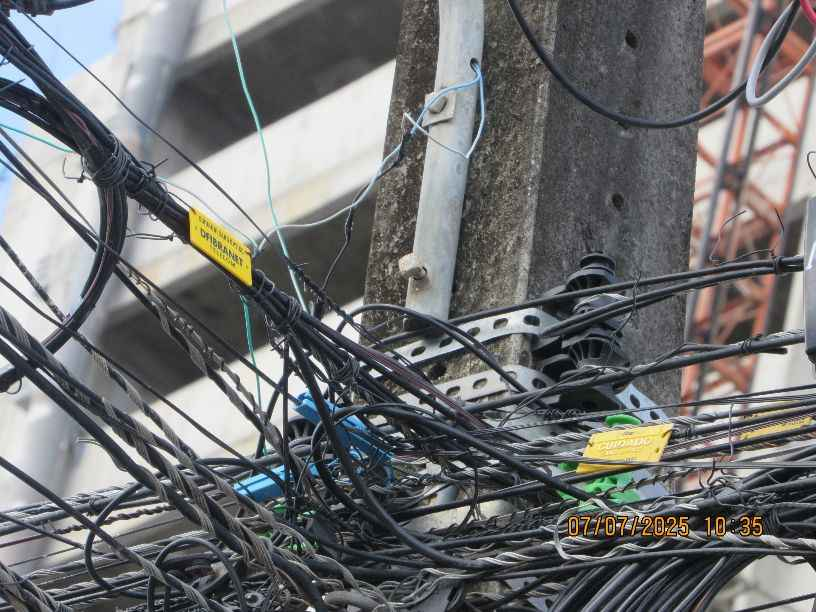drop: (288, 377, 418, 478)
fibra_optica: (122, 445, 350, 607), (415, 506, 766, 588), (126, 171, 301, 326), (476, 379, 722, 482)
tronco_metalico: (0, 65, 123, 421)
